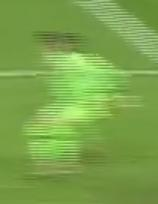goalkeeper: (16, 14, 133, 188)
